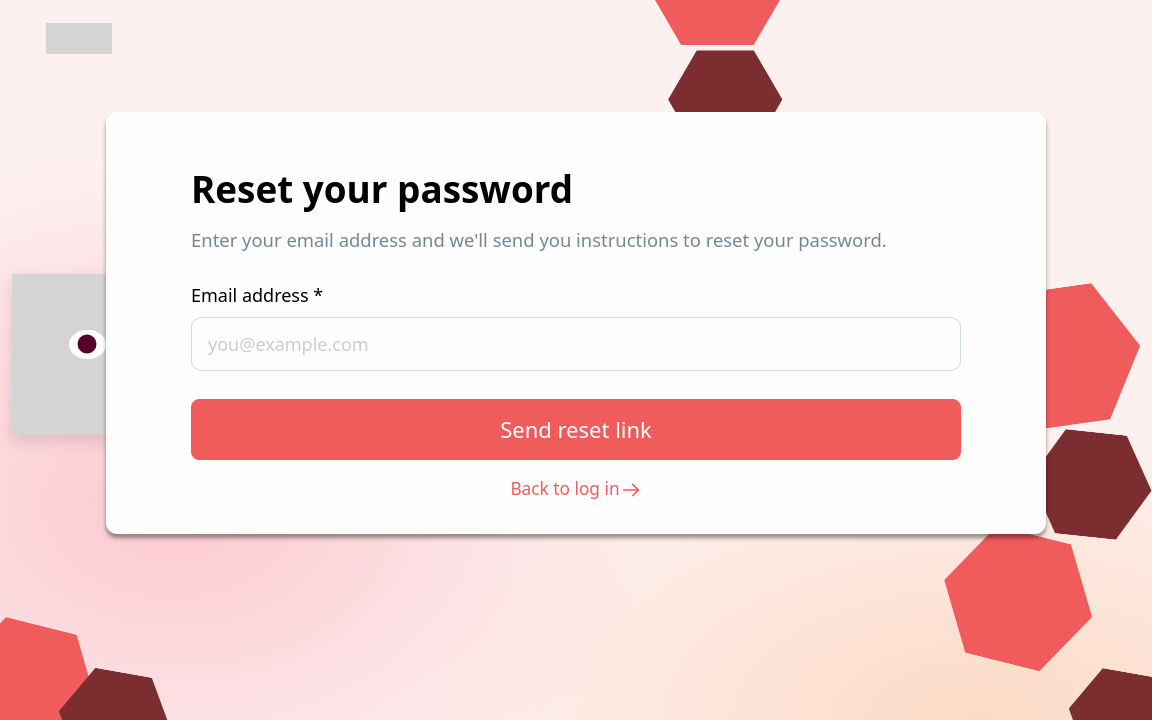
Test case: ResetPassword page › handles unexpected thrown exceptions during password reset request
The width and height of the screenshot is (1152, 720).
In the field labelled "Email address *": x=576, y=344 [191,317,961,371], type "applicant@uwaterloo.ca"
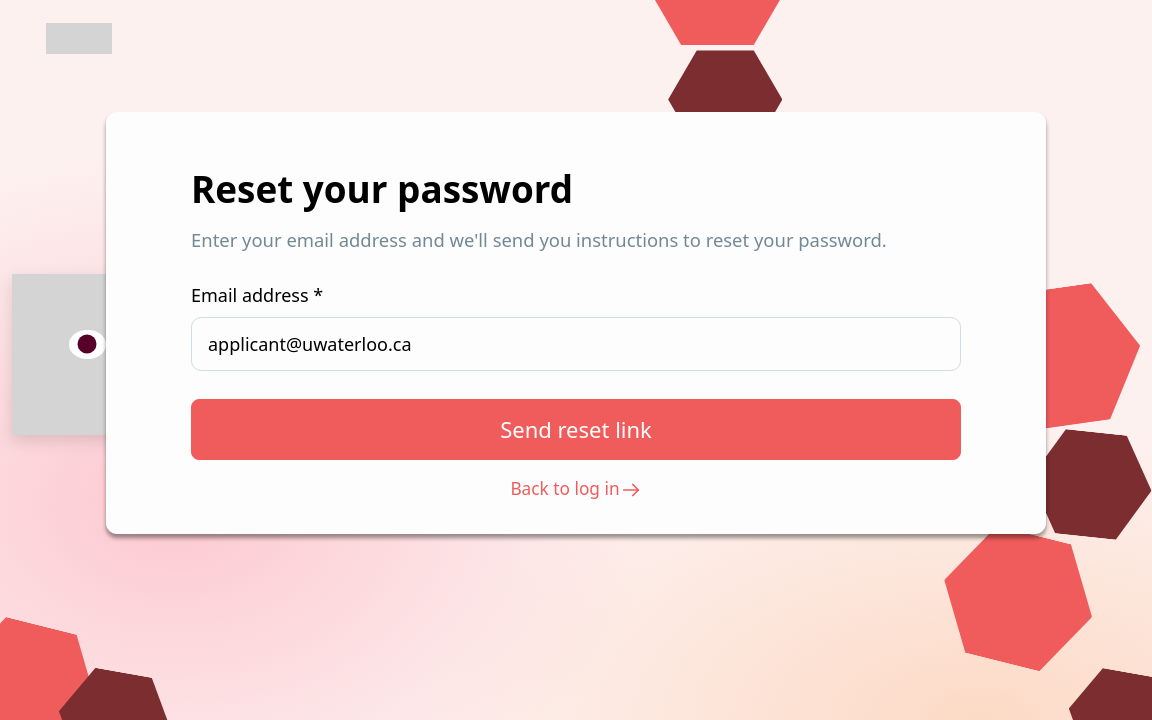
Click the button "Send reset link": x=576, y=430 [191,399,961,460]
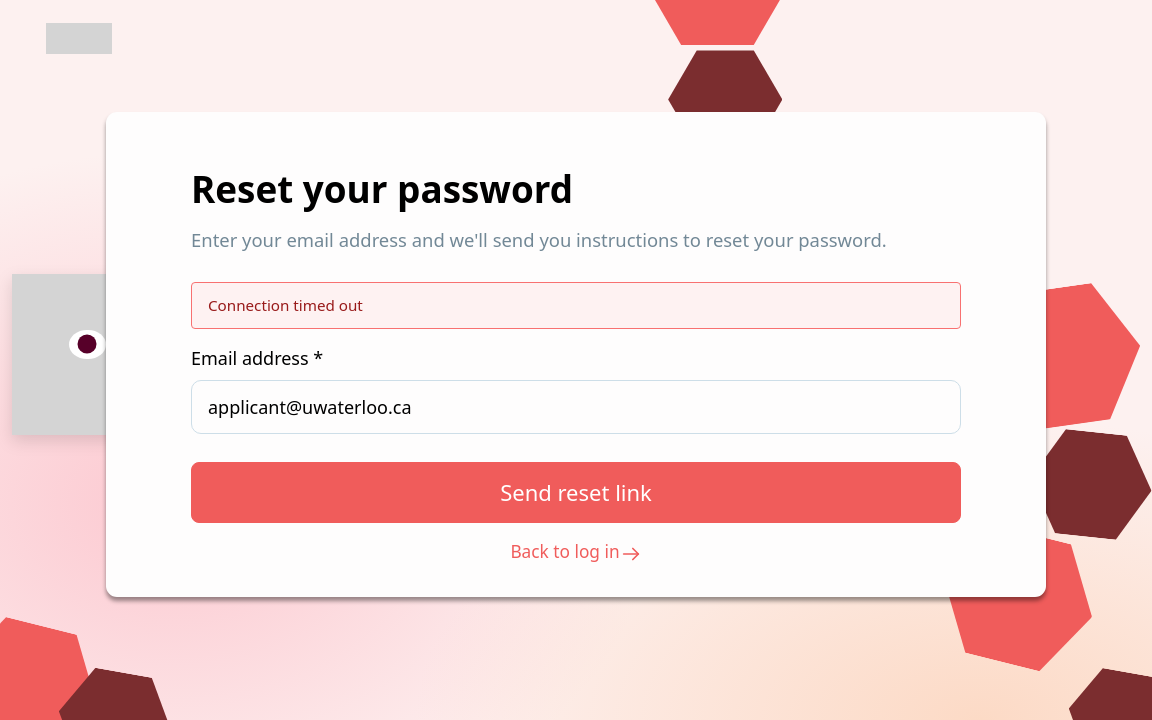
Check: the text "Connection timed out" is shown, box [191,282,961,329]
